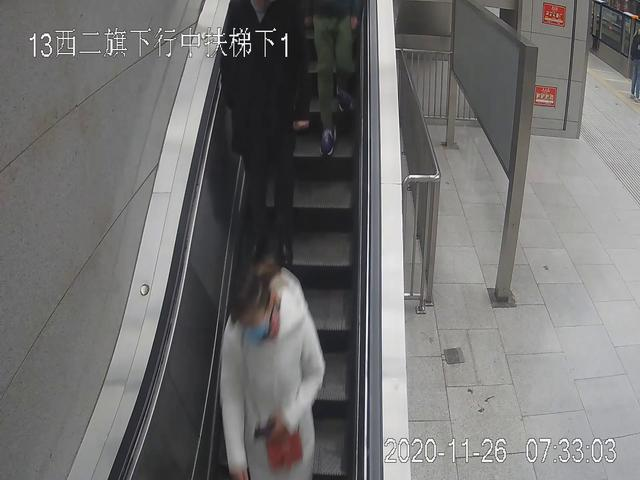person: (222, 1, 310, 266), (219, 263, 325, 480)
